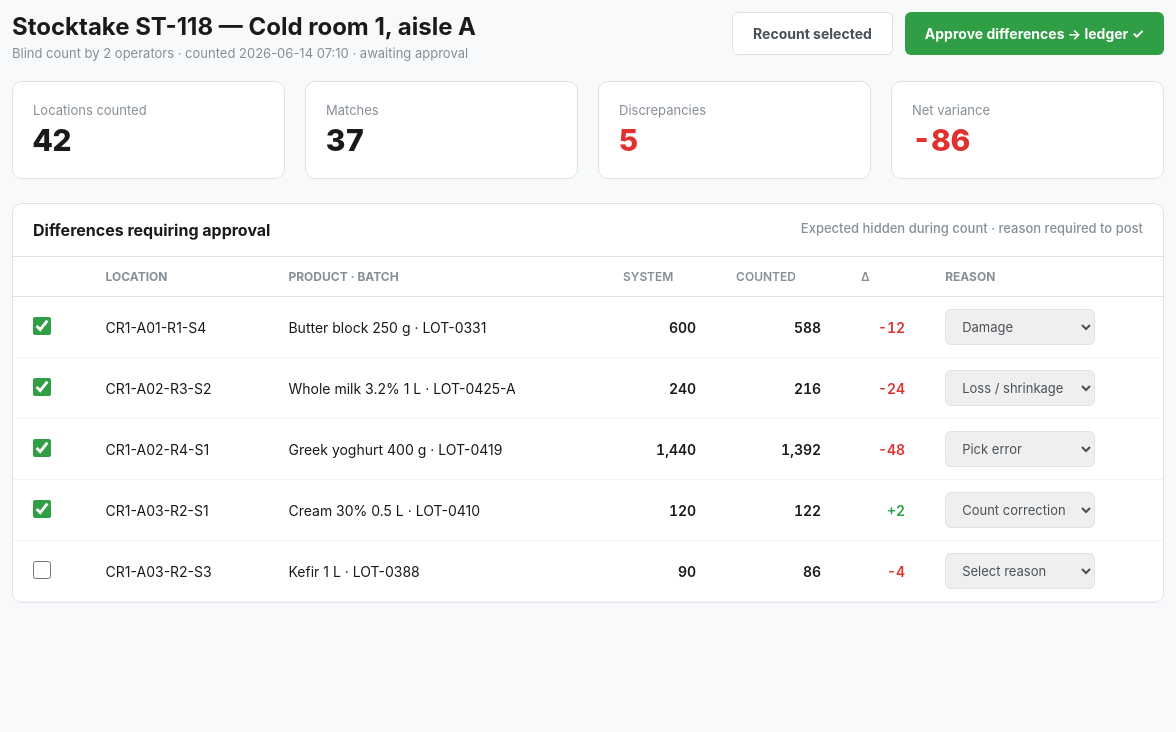
Scenario: StocktakeScreen › approves the differences to the ledger
Expected: the text "Butter block 250 g · LOT-0331" is shown, top-left (268, 296), bottom-right (603, 358)
Click the button "Approve differences → ledger ✓". click: (1034, 34)
box: top-left (905, 12), bottom-right (1164, 55)
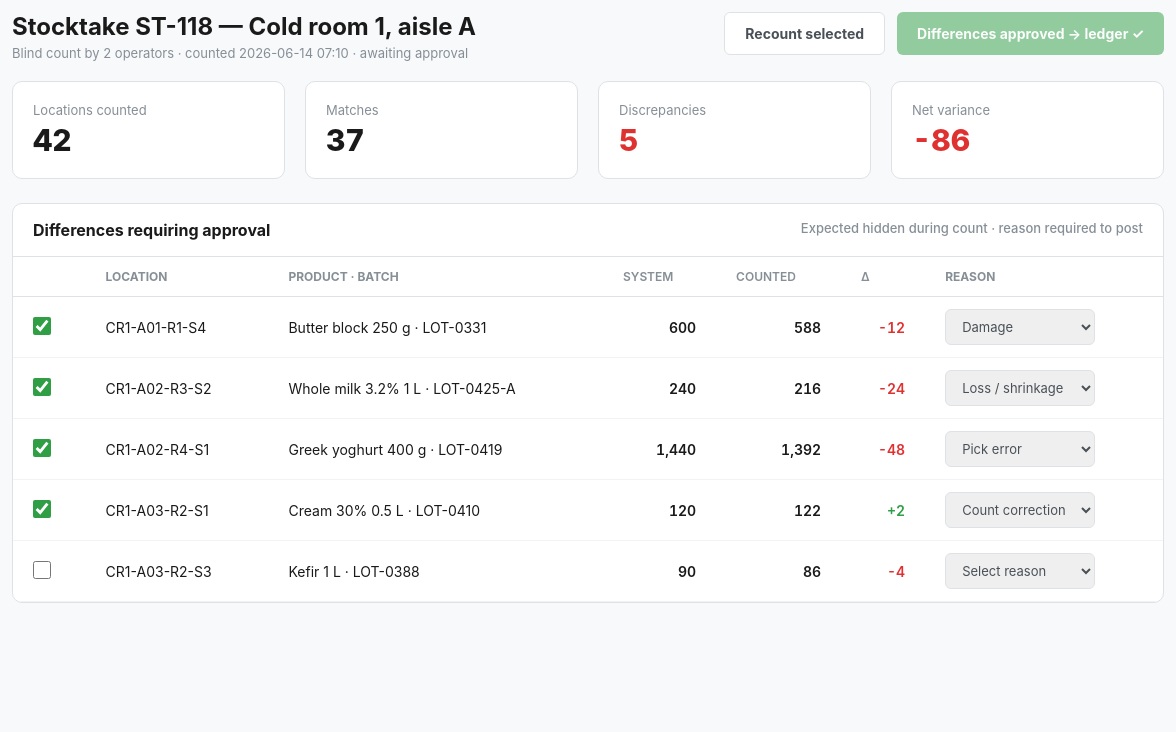
Result: the button "Differences approved → ledger ✓" is shown at top-left (897, 12), bottom-right (1164, 55)
